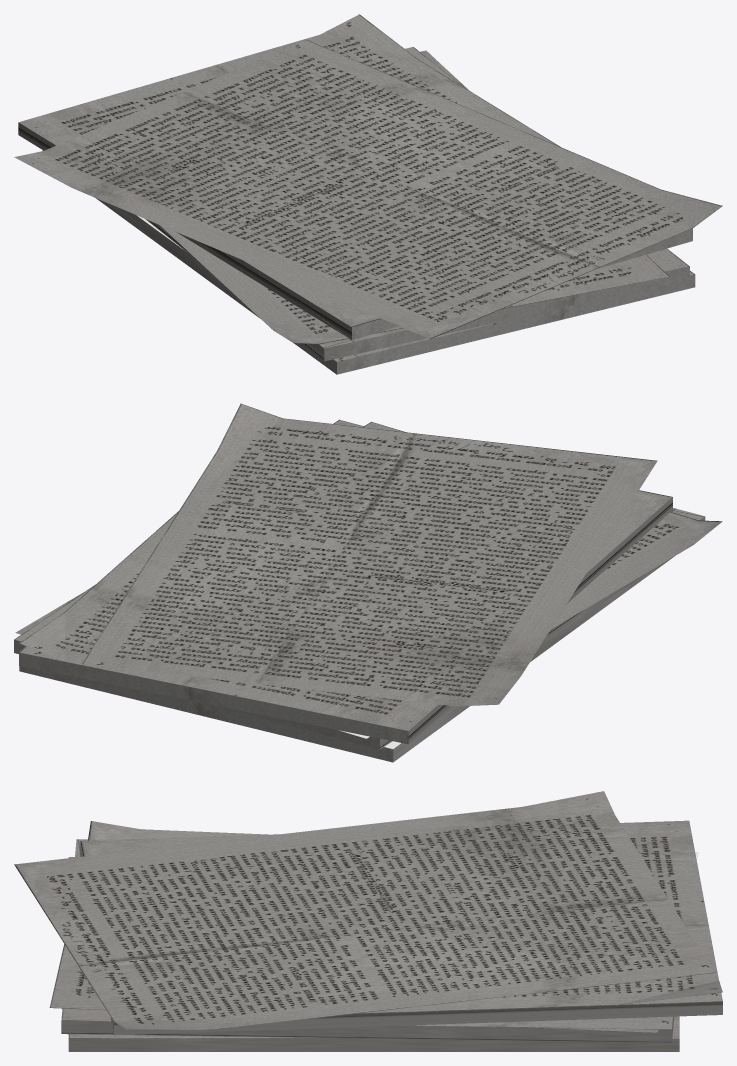
3 renders of one model, top to bottom at view 1: azimuth 30°, elevation 25°; view 2: azimuth 150°, elevation 25°; view 3: azimuth 270°, elevation 25°, orthographic. The views are drawn at different scales.
Parts seen in each view (by area): view 1: Geode; view 2: Geode; view 3: Geode.
Boxes of the visible parts, x1=… form: Geode: x1=14, y1=14, x2=722, y2=374; Geode: x1=14, y1=403, x2=722, y2=762; Geode: x1=14, y1=791, x2=722, y2=1051.
Size of the model in its own units: 0.2113 by 0.0203 by 0.2614.
